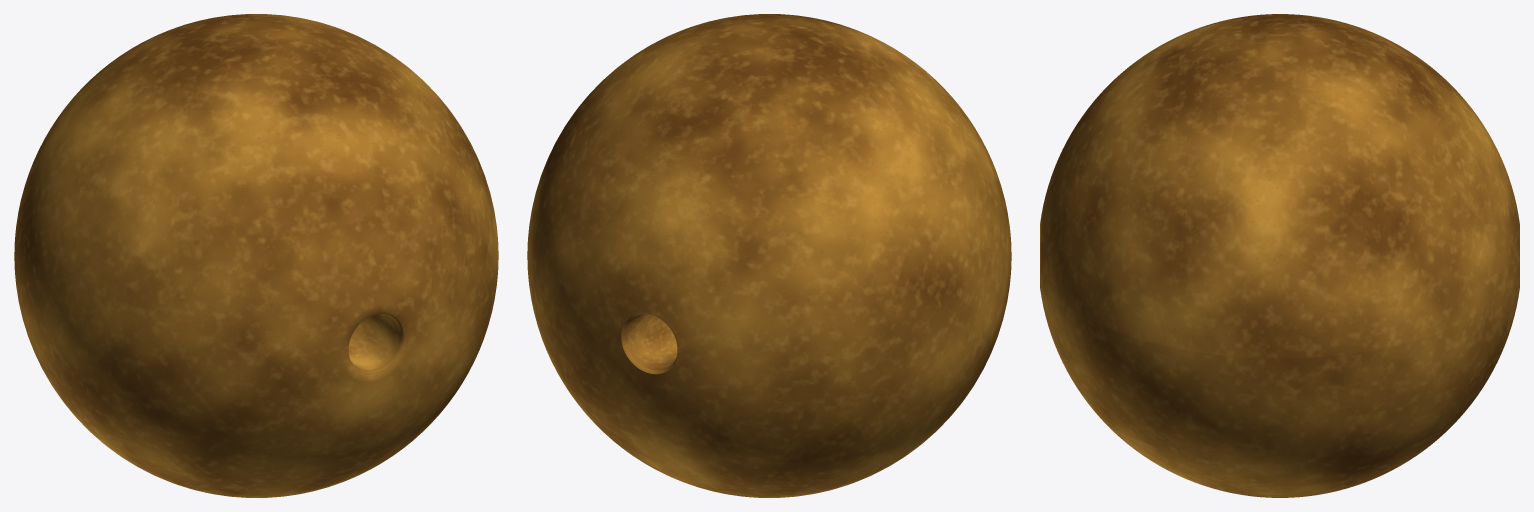
File: yellow-sapphire.glb
3 renders of one model, left to right at view 1: azimuth 30°, elevation 25°; view 2: azimuth 150°, elevation 25°; view 3: azimuth 270°, elevation 25°, orthographic.
Visible parts, largest first — view 1: yellow-sapphire.001; view 2: yellow-sapphire.001; view 3: yellow-sapphire.001.
Part boxes in pixels (left/top/right/bottom): yellow-sapphire.001: left=14, top=14, right=498, bottom=497; yellow-sapphire.001: left=527, top=14, right=1011, bottom=497; yellow-sapphire.001: left=1040, top=14, right=1519, bottom=497.
Size of the model in its own units: 0.008 by 0.008 by 0.00793.
2 materials, 1 textured.
